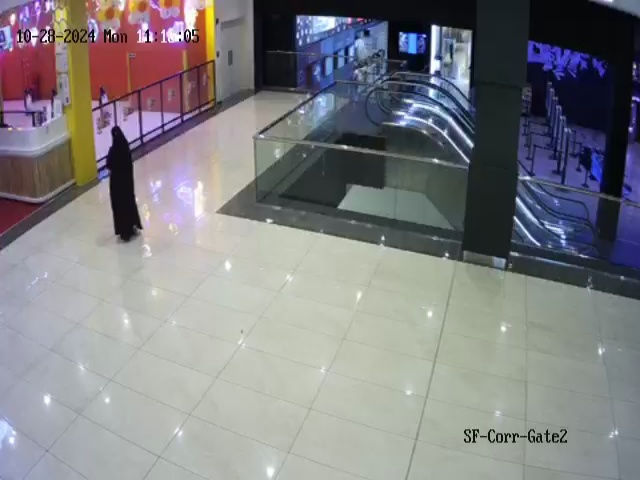female: (106, 126, 143, 243)
